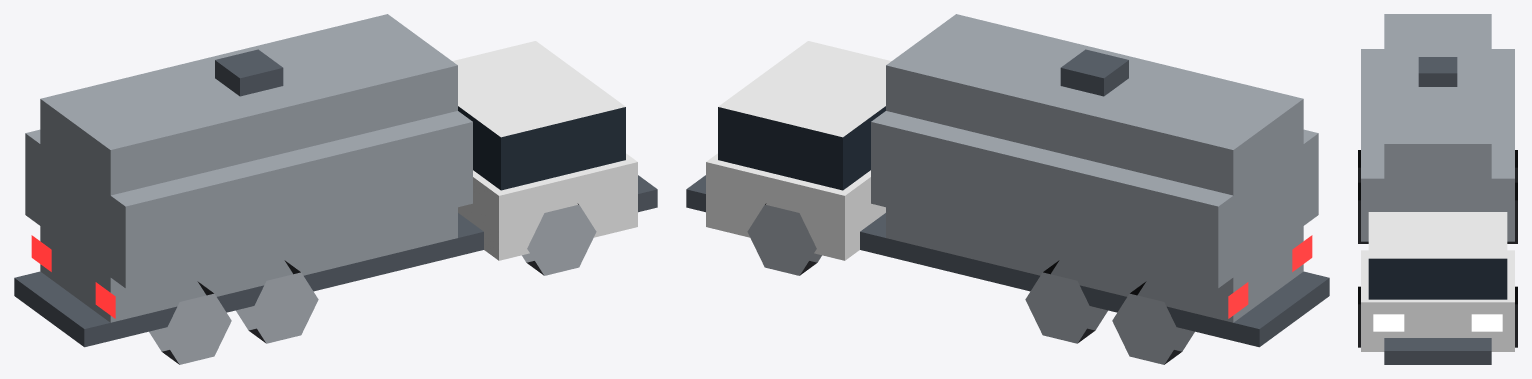
File: truck_tanker.glb
3 views of the same model, side by side, from view 1: azimuth 30°, elevation 25°; view 2: azimuth 150°, elevation 25°; view 3: azimuth 270°, elevation 25° (orthographic). The views are drawn at different scales.
Parts seen in each view (by area): view 1: truck_tanker; view 2: truck_tanker; view 3: truck_tanker.
Boxes of the visible parts, <box> form: truck_tanker: <box>14,14,657,364</box>; truck_tanker: <box>686,14,1329,364</box>; truck_tanker: <box>1358,14,1517,364</box>.
Size of the model in its own units: 0.66 by 0.2566 by 0.208.
